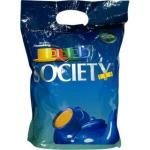society: (21, 29, 122, 149)
